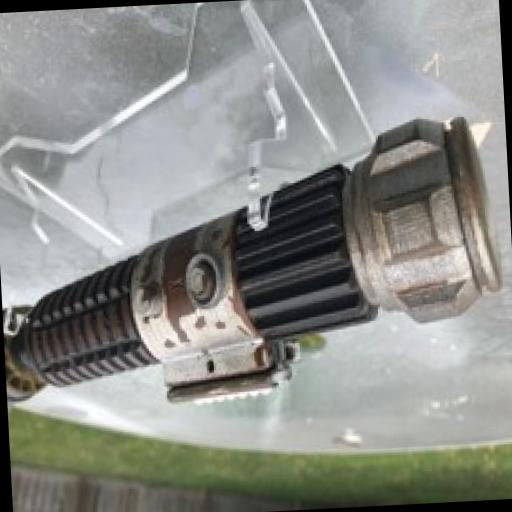lightsaber: (0, 103, 510, 418)
